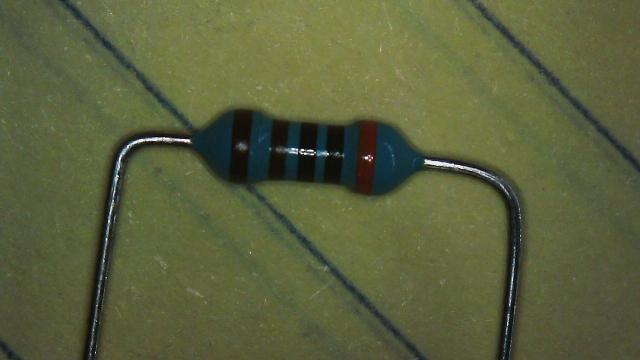black: (323, 126, 344, 182), (298, 123, 318, 180)
brown: (228, 110, 252, 182), (268, 120, 289, 179)
orange: (355, 121, 376, 194)
resistor: (190, 92, 430, 212)
